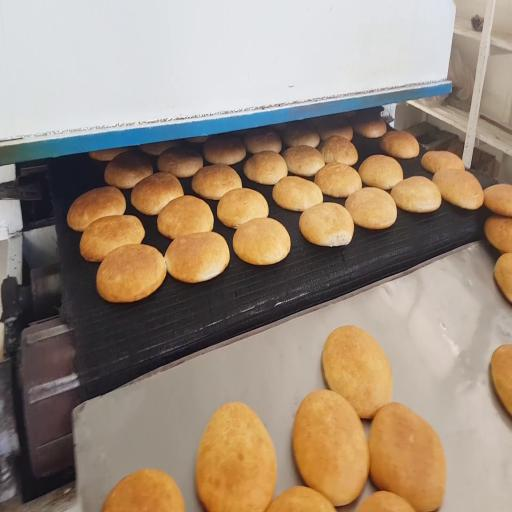bread: (293, 390, 369, 506), (196, 403, 277, 511), (370, 403, 446, 511), (323, 326, 392, 418), (97, 244, 166, 302), (102, 469, 185, 511), (165, 232, 229, 283), (80, 216, 145, 262), (233, 218, 290, 265), (67, 187, 125, 231), (158, 196, 213, 239), (299, 203, 354, 246), (345, 187, 397, 229), (131, 173, 183, 215), (433, 169, 483, 210), (217, 188, 268, 228), (105, 151, 153, 189), (192, 164, 242, 200), (391, 176, 441, 212), (273, 176, 322, 211), (267, 486, 335, 511), (315, 163, 362, 197), (359, 155, 403, 190), (244, 151, 287, 184), (491, 345, 511, 415), (158, 148, 203, 178), (203, 135, 246, 164), (283, 146, 324, 176), (319, 136, 358, 165), (358, 492, 414, 511), (380, 131, 419, 158), (484, 216, 511, 252), (421, 151, 465, 173), (244, 128, 281, 154), (494, 253, 512, 303), (484, 184, 512, 216), (283, 124, 319, 147), (318, 118, 353, 140), (139, 140, 181, 156), (353, 118, 386, 138), (89, 147, 131, 161), (186, 136, 207, 143), (272, 123, 290, 131)
